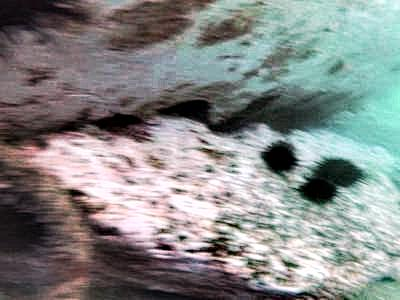urchin: (2, 195, 52, 257), (317, 155, 365, 186), (261, 138, 298, 170), (293, 176, 334, 203)
